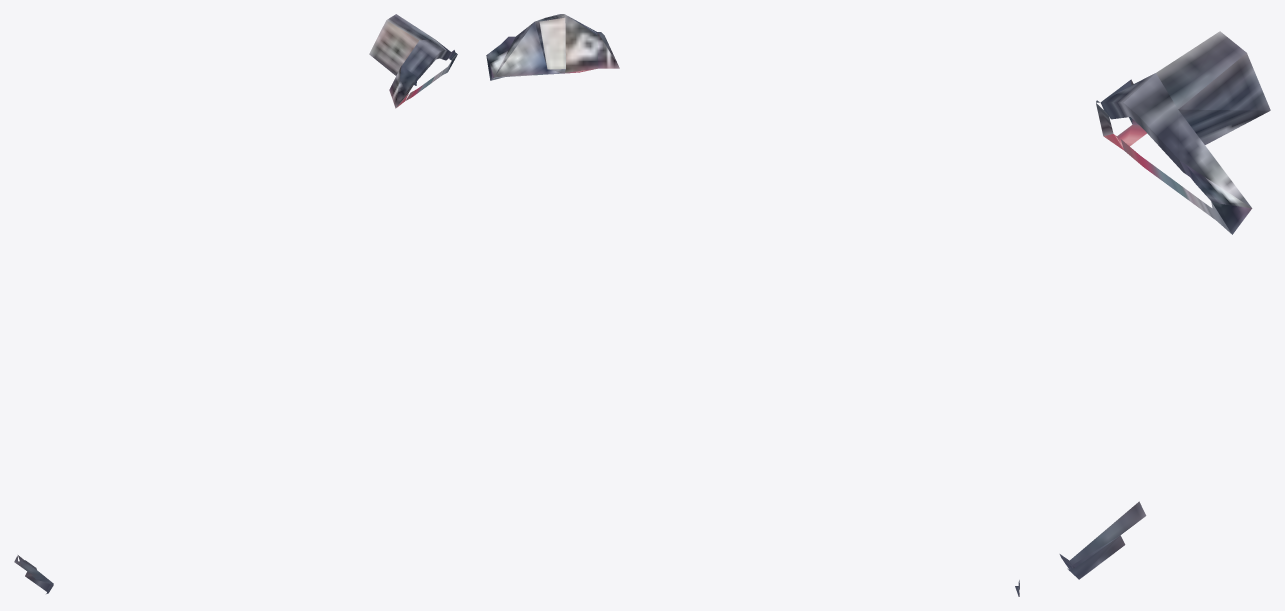
3 views of the same model, side by side, from view 1: azimuth 30°, elevation 25°; view 2: azimuth 150°, elevation 25°; view 3: azimuth 270°, elevation 25° (orthographic). The views are drawn at different scales.
Bounding box in the file's own units: 99.37 × 93.4 × 19.64.
Materials: 1 (1 with a texture image).
